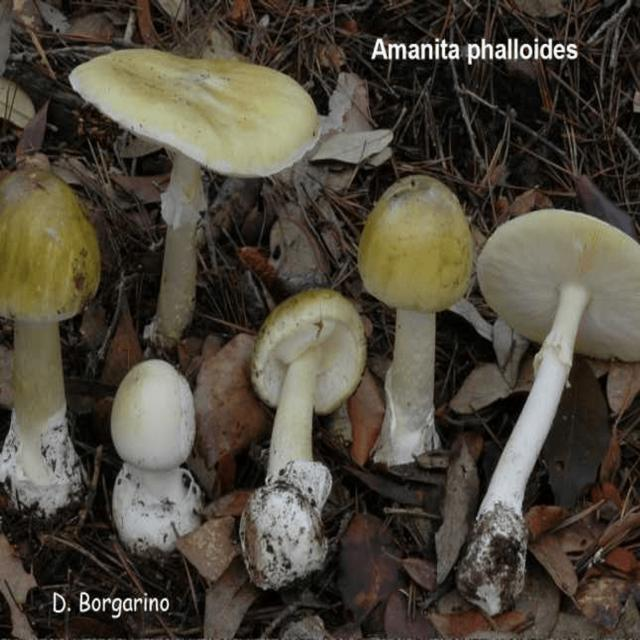death-cap: (454, 209, 640, 619), (67, 48, 322, 326), (239, 289, 367, 594), (0, 159, 100, 531), (357, 174, 477, 460), (109, 359, 198, 548)
